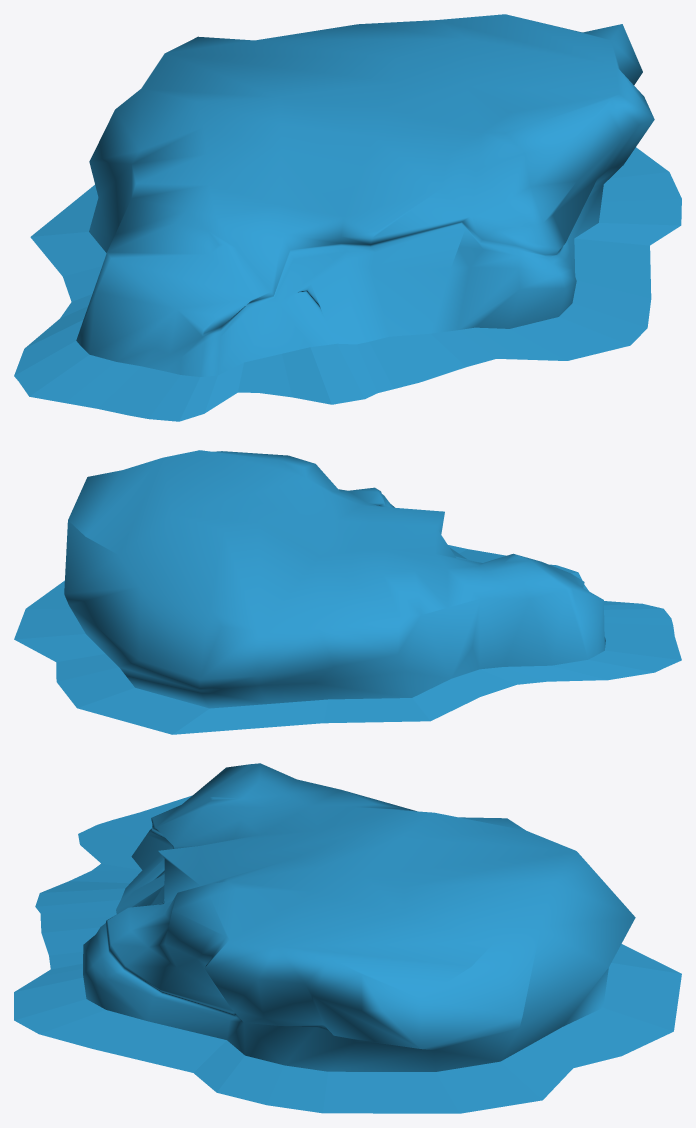
File: Rock_02_Lod1.fbx
3 renders of one model, top to bottom at view 1: azimuth 30°, elevation 25°; view 2: azimuth 150°, elevation 25°; view 3: azimuth 270°, elevation 25°, orthographic. The views are drawn at different scales.
Parts seen in each view (by area): view 1: Rock_02_Lod1; view 2: Rock_02_Lod1; view 3: Rock_02_Lod1.
Part boxes in pixels (bbox=[...]): Rock_02_Lod1: bbox=[14, 14, 681, 421]; Rock_02_Lod1: bbox=[14, 450, 681, 734]; Rock_02_Lod1: bbox=[14, 763, 681, 1113].
Bounding box in the file's own units: 3388 × 655 × 3002.
